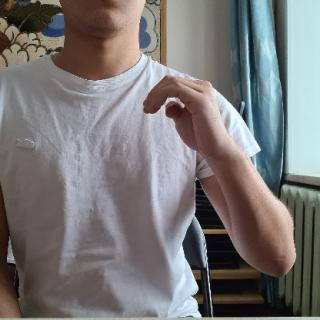JEEM: (138, 73, 239, 167)
